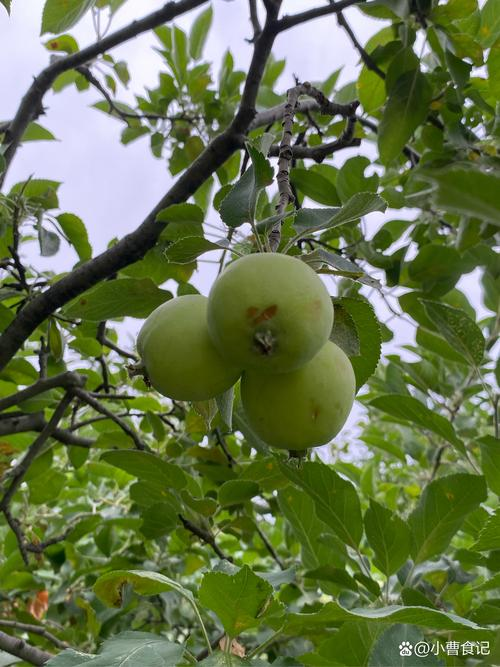unripe: (201, 247, 335, 376), (240, 335, 356, 466), (121, 288, 240, 403)
